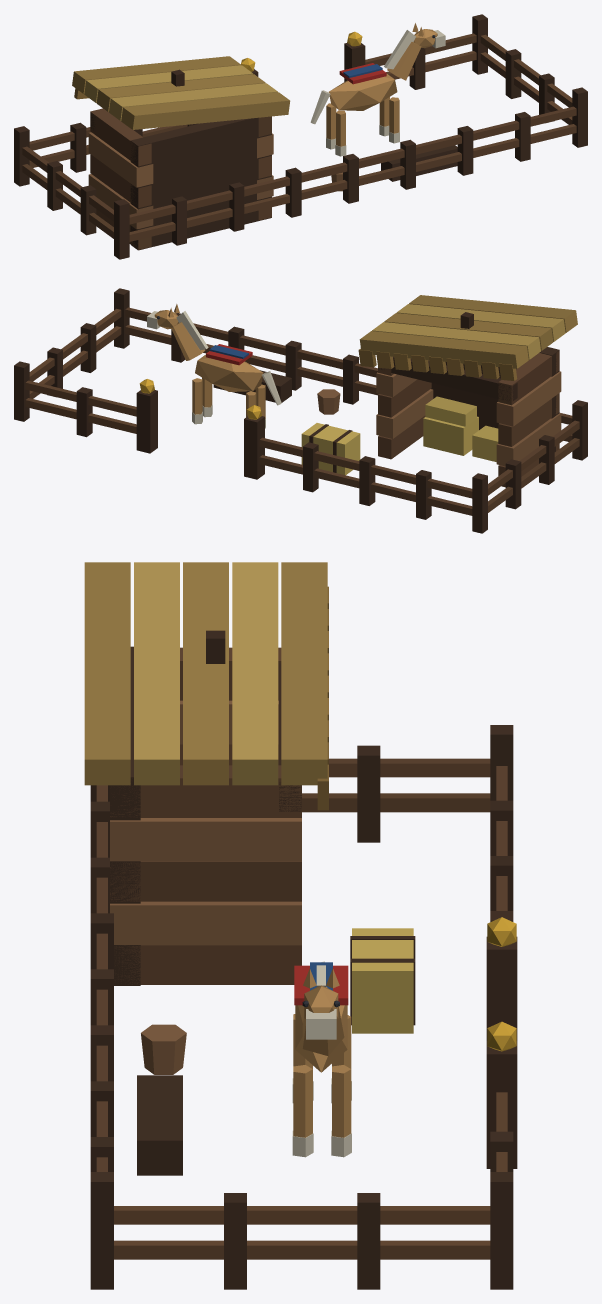
Rendered from Decor_VikingLonghouse_Stables.fbx.
3 renders of one model, top to bottom at view 1: azimuth 30°, elevation 25°; view 2: azimuth 150°, elevation 25°; view 3: azimuth 270°, elevation 25°, orthographic. The views are drawn at different scales.
Parts seen in each view (by area): view 1: Stables_Body; view 2: Stables_Body; view 3: Stables_Body.
Boxes of the visible parts, <box> form: Stables_Body: <box>14,14,587,259</box>; Stables_Body: <box>14,288,587,533</box>; Stables_Body: <box>84,562,517,1289</box>.
Size of the model in its own units: 28 by 8.15 by 11.2.
